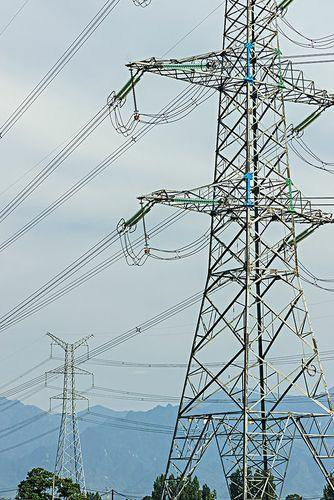power_tower: (121, 0, 334, 500), (46, 330, 101, 496)
